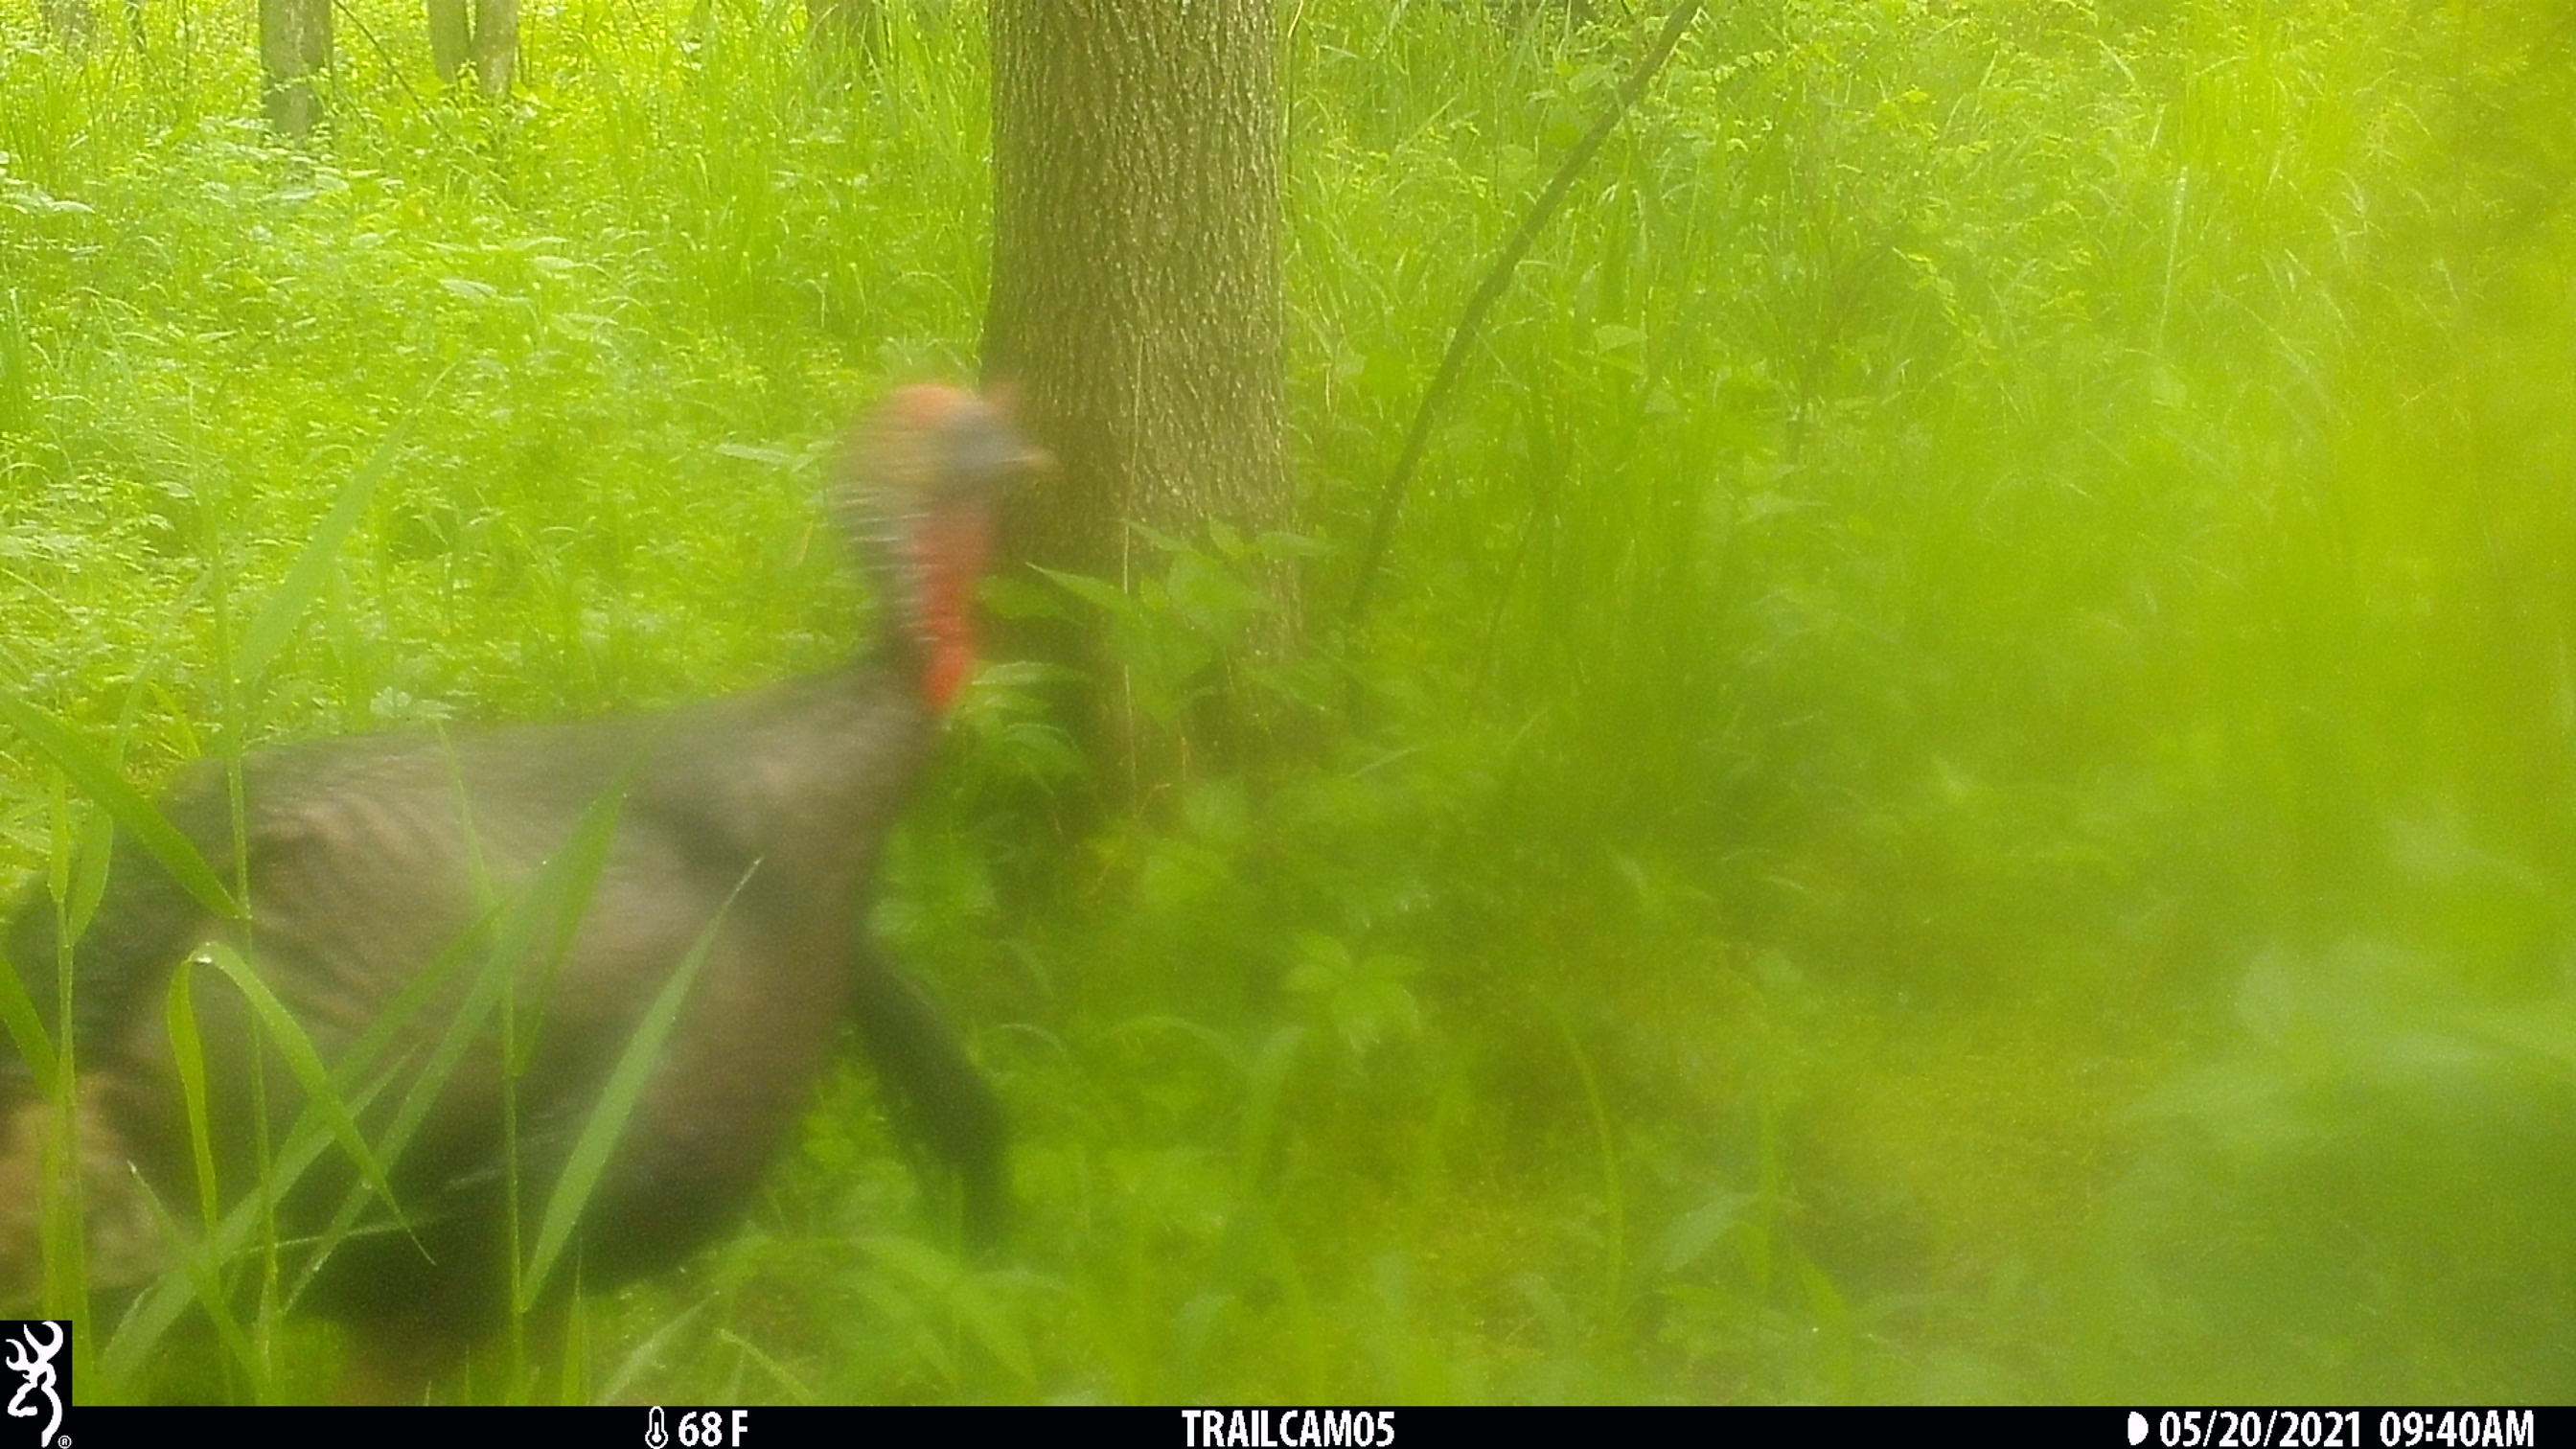Turkey: (2, 375, 1065, 1382)
